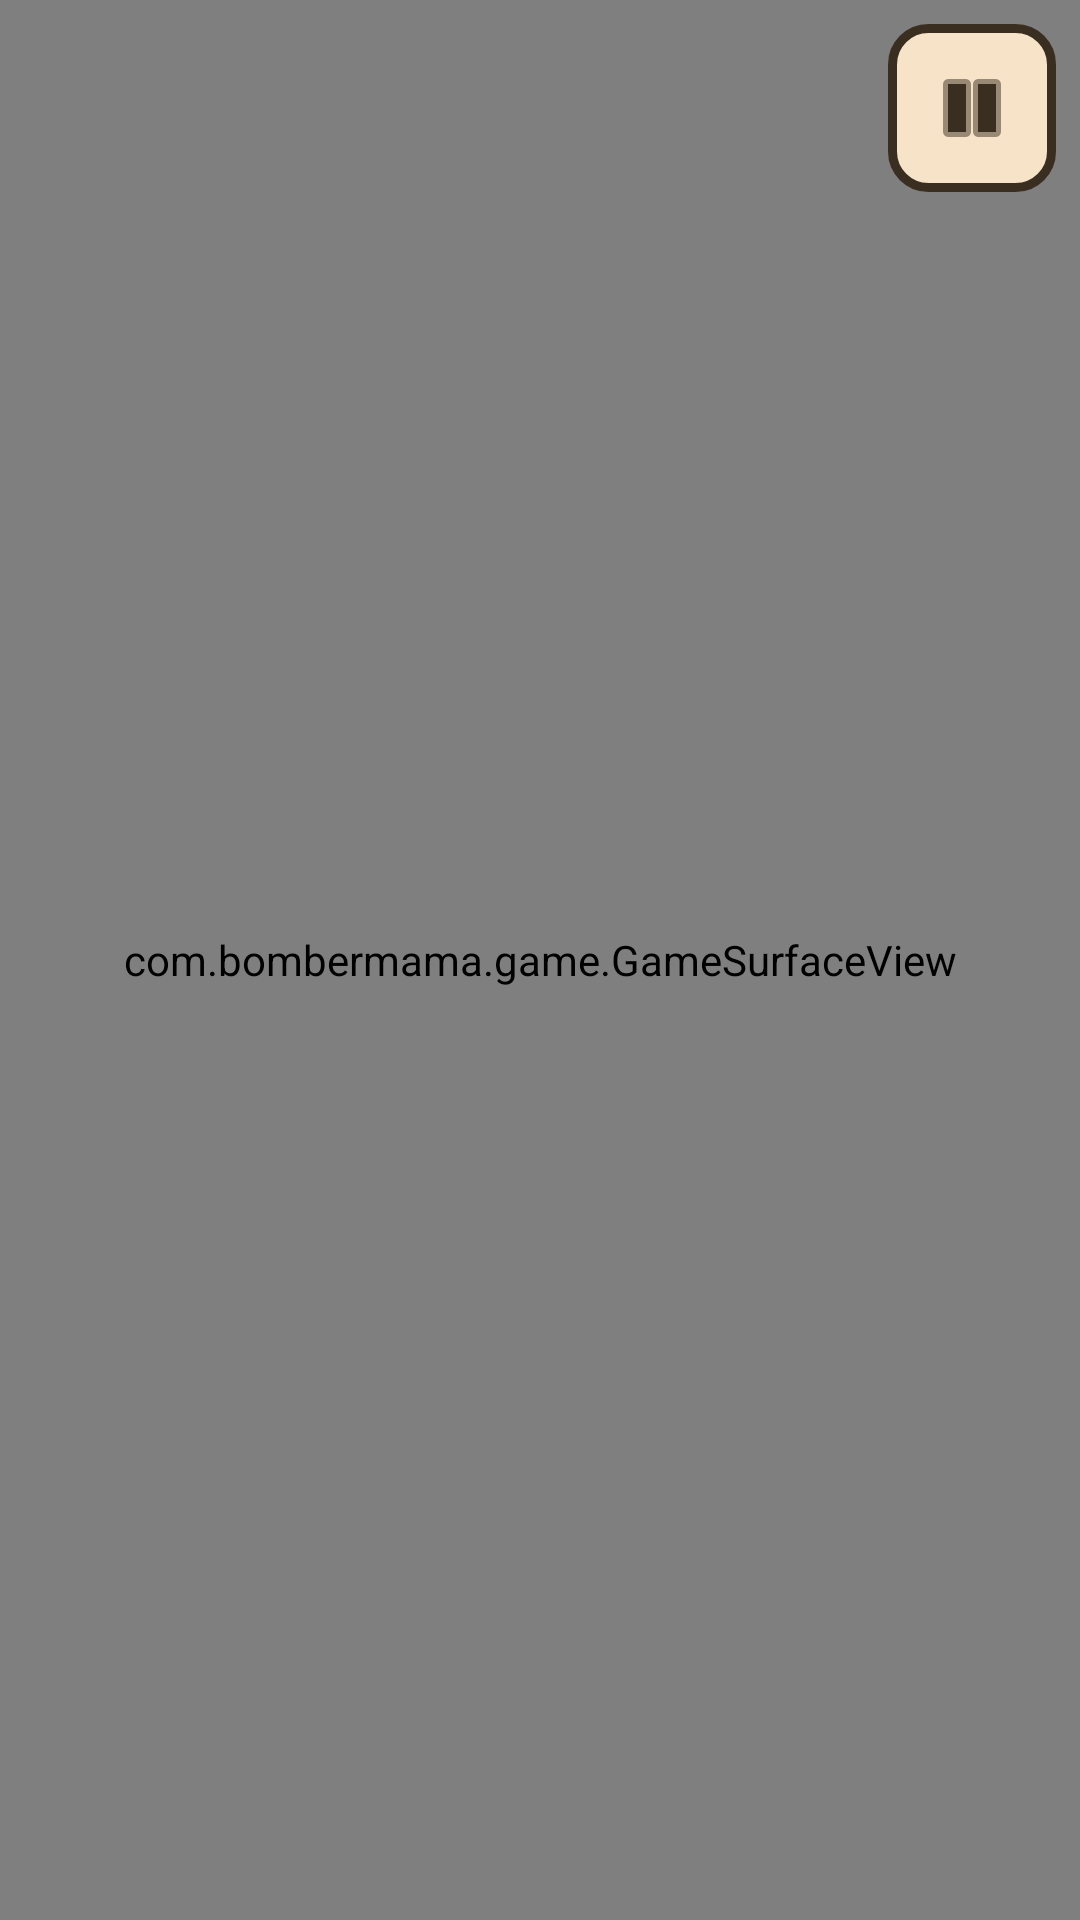

Screen size 1080 × 1920. Icon name, then its box in pixels as (x1, y1, x2, y2):
ПАУЗА: (888, 24, 1056, 192)
